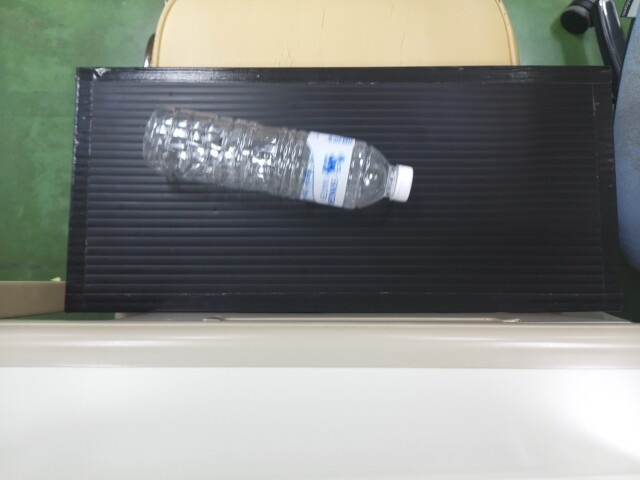plastic_bottle: (136, 109, 415, 210)
